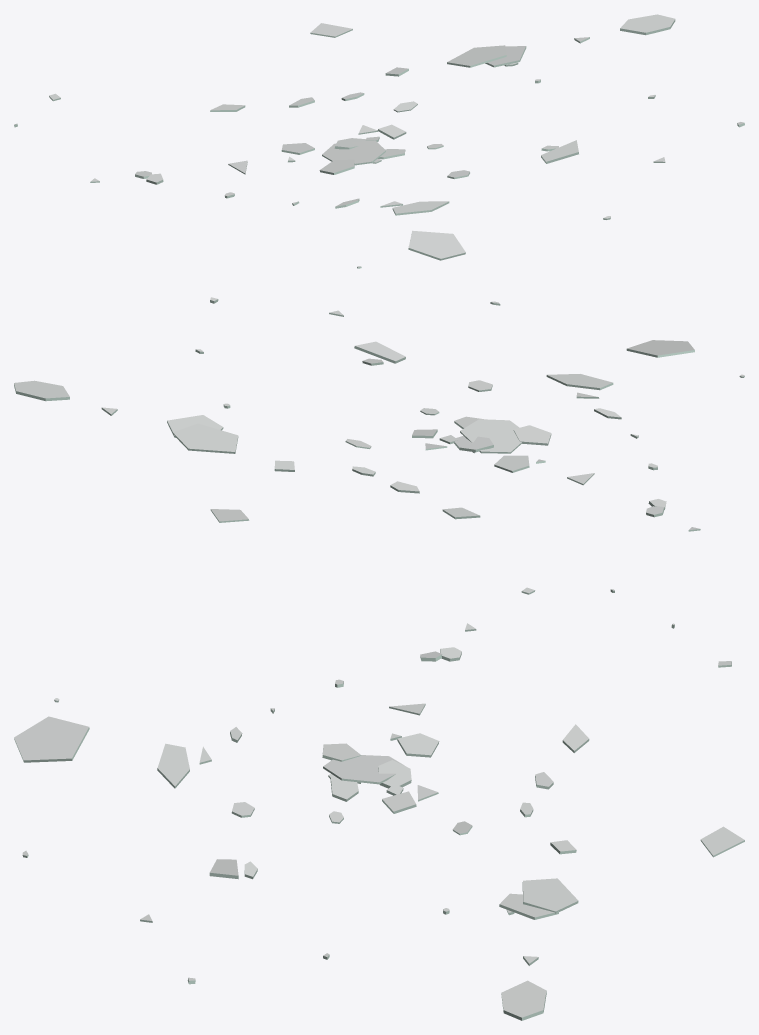
File: GroundGlass_Sparse.fbx
The picture shows the model from 3 angles, top to bottom: view 1: azimuth 30°, elevation 25°; view 2: azimuth 150°, elevation 25°; view 3: azimuth 270°, elevation 25°; orthographic projection. The views are drawn at different scales.
Parts seen in each view (by area): view 1: GroundGlass_Sparse; view 2: GroundGlass_Sparse; view 3: GroundGlass_Sparse.
Boxes of the visible parts, x1,y1,x2,y2 form: GroundGlass_Sparse: [14, 14, 744, 268]; GroundGlass_Sparse: [14, 297, 744, 594]; GroundGlass_Sparse: [14, 623, 744, 1020].
Size of the model in its own units: 176 by 3.55 by 138.
